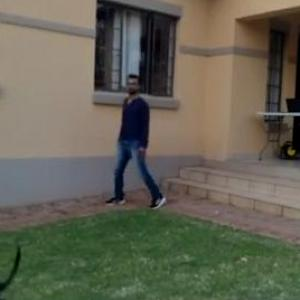follow: (110, 65, 156, 214)
